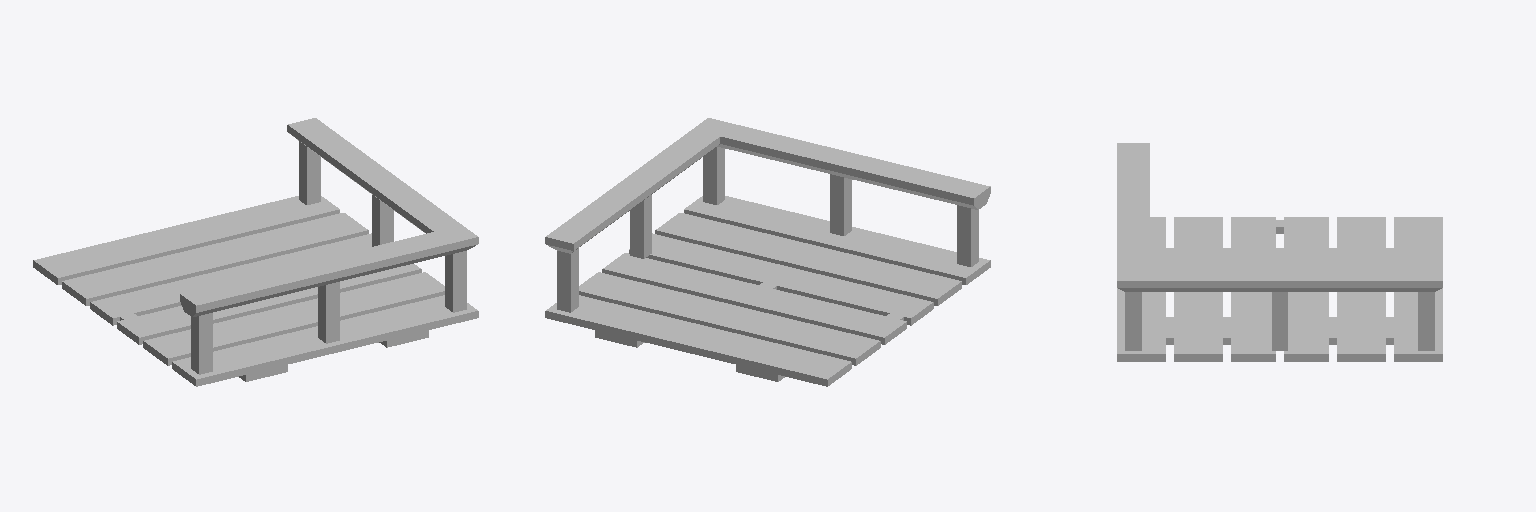
The model's file is scaffold_low_cornerLeft.obj.
3 views of the same model, side by side, from view 1: azimuth 30°, elevation 25°; view 2: azimuth 150°, elevation 25°; view 3: azimuth 270°, elevation 25° (orthographic).
Visible parts, largest first — view 1: scaffold_low_cornerLeft_Cube.2480; view 2: scaffold_low_cornerLeft_Cube.2480; view 3: scaffold_low_cornerLeft_Cube.2480.
Part boxes in pixels (left/top/right/bottom): scaffold_low_cornerLeft_Cube.2480: left=33, top=118, right=478, bottom=386; scaffold_low_cornerLeft_Cube.2480: left=545, top=118, right=990, bottom=386; scaffold_low_cornerLeft_Cube.2480: left=1117, top=143, right=1442, bottom=361.
Bounding box in the file's own units: 4 × 1.2 × 4.